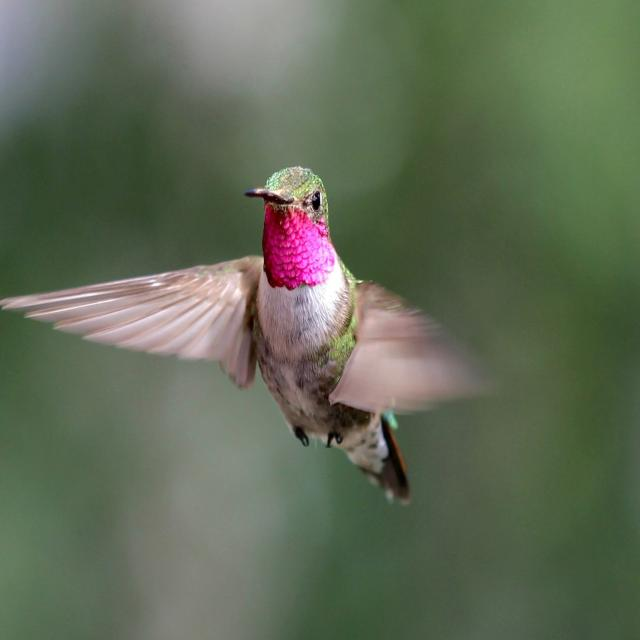Humming Bird: (51, 161, 436, 511)
